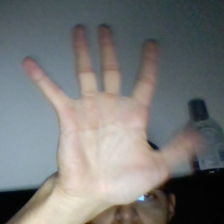left: (18, 13, 210, 206)
